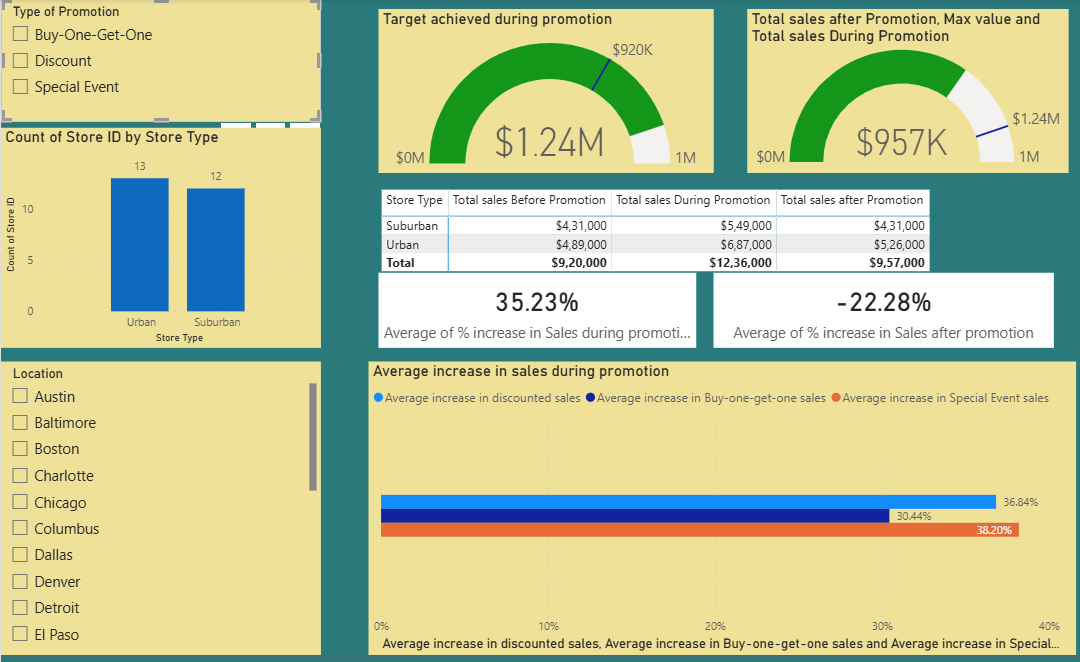

Layout of this report page (visuals, bound fields, positions):
{"tool":"powerbi","page":{"name":"Dashboard","canvas":[1280,720],"ordinal":1},"visuals":[{"type":"clusteredBarChart","title":"Average increase in sales during promotion","fields":{"Y":["Store Data.Average increase in discounted sales","Store Data.Average increase in Buy-one-get-one sales","Store Data.Average increase in Special Event sales"]},"box":[403.4,397.9,776.7,322.5],"z":0},{"type":"pivotTable","fields":{"Rows":["Store Data.Store Type"],"Values":["Store Data.Total sales Before Promotion","Store Data.Total sales During Promotion","Store Data.Total sales after Promotion"]},"box":[413,204.5,757.5,113.9],"z":1000},{"type":"slicer","fields":{"Values":["Store Data.Type of Promotion"]},"box":[0,0,351.3,134.5],"z":2000},{"type":"columnChart","fields":{"Y":["CountNonNull(Store Data.Store ID)"],"Category":["Store Data.Store Type"]},"box":[0,141.3,351.3,241.5],"z":3000},{"type":"gauge","title":"Target achieved during promotion","fields":{"TargetValue":["Store Data.Total sales Before Promotion"],"Y":["Store Data.Total sales During Promotion"],"MaxValue":["Store Data.Max value"]},"box":[414.4,11,367.8,179.8],"z":4000},{"type":"gauge","fields":{"Y":["Store Data.Total sales after Promotion"],"TargetValue":["Store Data.Total sales During Promotion"],"MaxValue":["Store Data.Max value"]},"box":[819.2,11,352.7,179.8],"z":5000},{"type":"slicer","fields":{"Values":["Store Data.Location"]},"box":[0,397.9,351.3,322.5],"z":6000},{"type":"card","fields":{"Values":["Avg(Store Data.% increase in Sales during promotion)"]},"box":[414.4,300.5,348.5,82.3],"z":6001},{"type":"card","fields":{"Values":["Avg(Store Data.% increase in Sales after promotion)"]},"box":[782.2,300.5,373.2,82.3],"z":6002}]}

Visuals, with their boxes on the page's 1280x720 design canvas (x1, y1, x2, y2). These are canvas units, not pixel positions in the 1080x662 screenshot, which may show the page scaled, cropped or inside an application window:
"Average increase in sales during promotion" clusteredBarChart: l=403, t=398, r=1180, b=720
pivotTable - Store Data.Store Type x Store Data.Total sales Before Promotion: l=413, t=204, r=1170, b=318
slicer - Store Data.Type of Promotion: l=0, t=0, r=351, b=134
columnChart - CountNonNull(Store Data.Store ID) x Store Data.Store Type: l=0, t=141, r=351, b=383
"Target achieved during promotion" gauge: l=414, t=11, r=782, b=191
gauge - Store Data.Total sales after Promotion x Store Data.Total sales During Promotion: l=819, t=11, r=1172, b=191
slicer - Store Data.Location: l=0, t=398, r=351, b=720
card - Avg(Store Data.% increase in Sales during promotion): l=414, t=300, r=763, b=383
card - Avg(Store Data.% increase in Sales after promotion): l=782, t=300, r=1155, b=383
